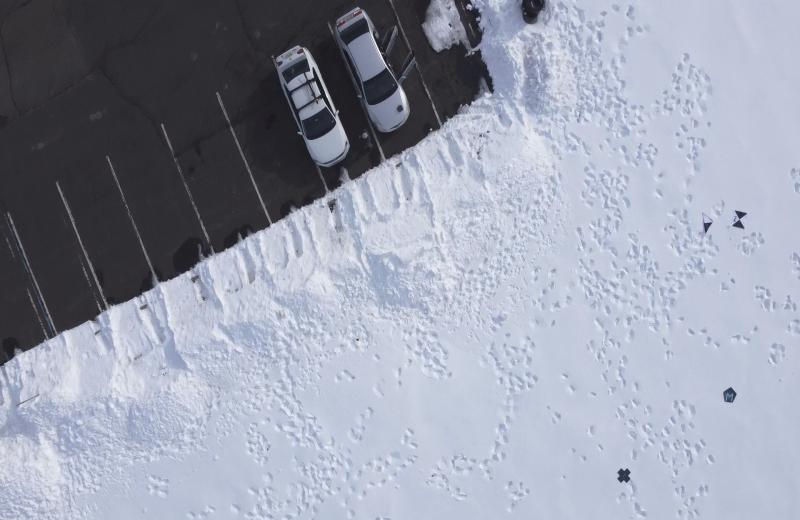Cross: (614, 465, 633, 484)
Pentagon: (721, 386, 738, 404)
